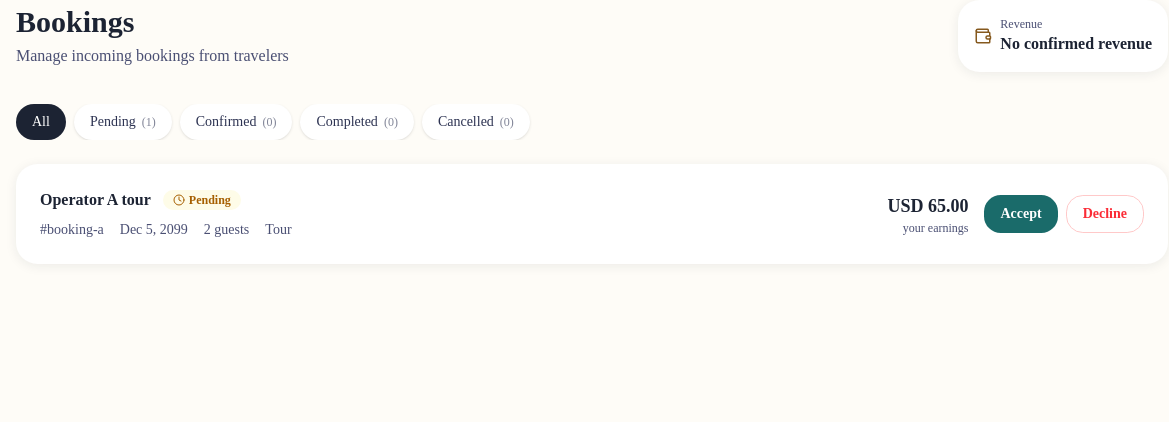
requires the successful matching server receipt before changing local status (503)
This screenshot has width=1169, height=422.
Step 1. Click the button "Accept" → (1021, 214), box [984,195,1058,233]
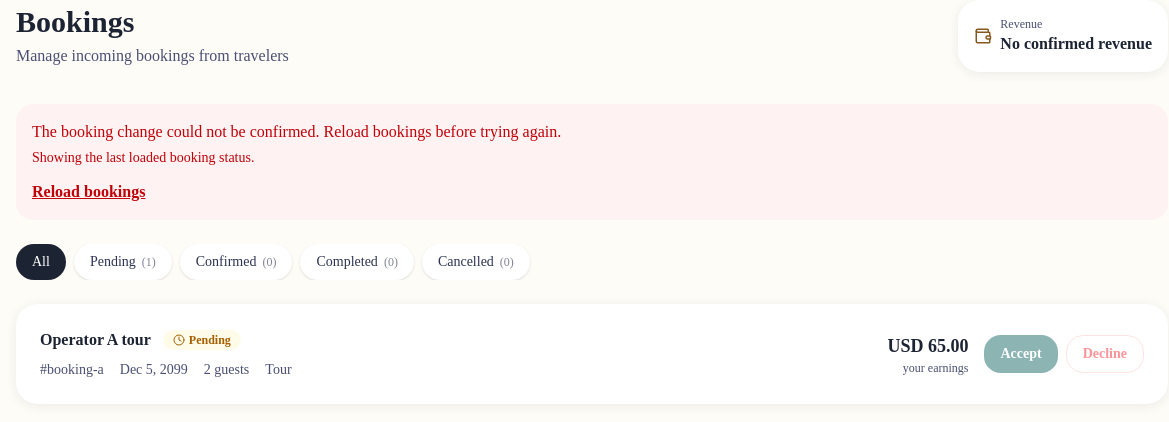
expect the message shows "could not be confirmed": met, box [32,123,561,140]
